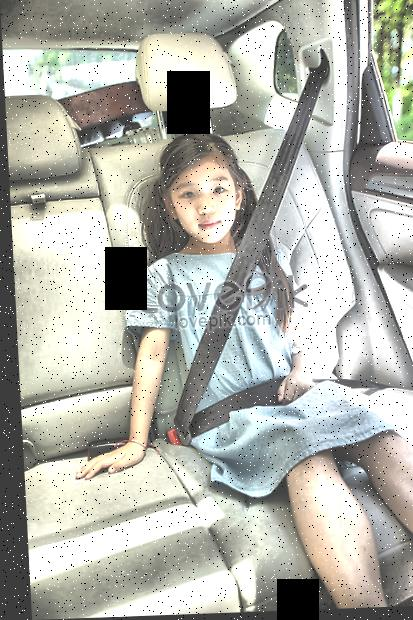seatbelt: (149, 55, 352, 448)
